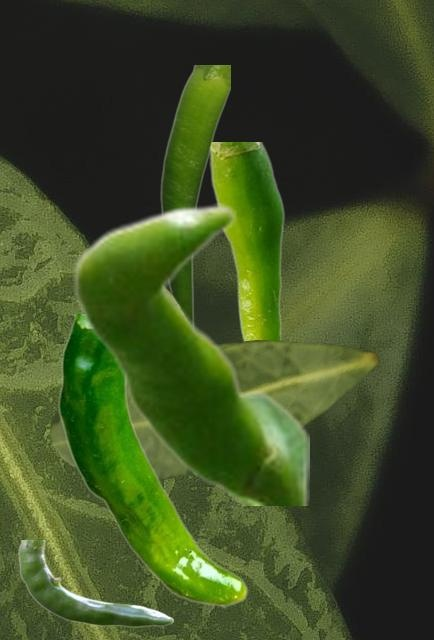green_chili: (72, 203, 308, 504), (58, 314, 247, 606), (160, 65, 229, 320), (209, 142, 286, 340), (18, 540, 172, 626)
